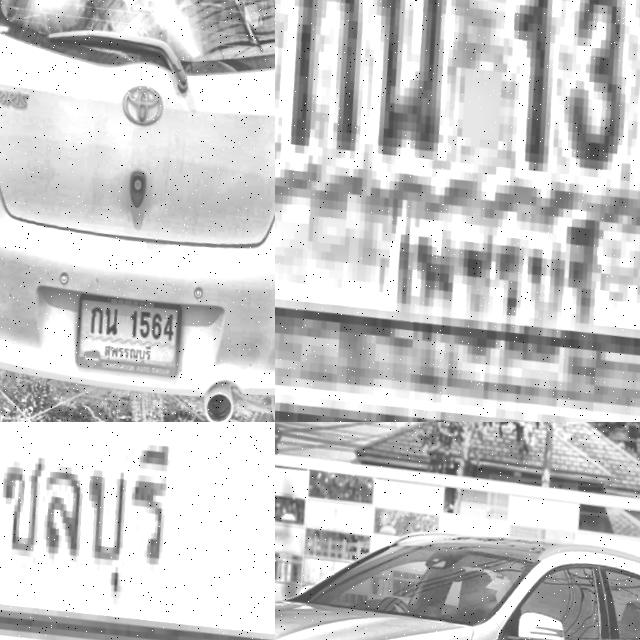license-plate: (275, 0, 640, 422), (0, 422, 275, 640), (58, 290, 180, 385)
